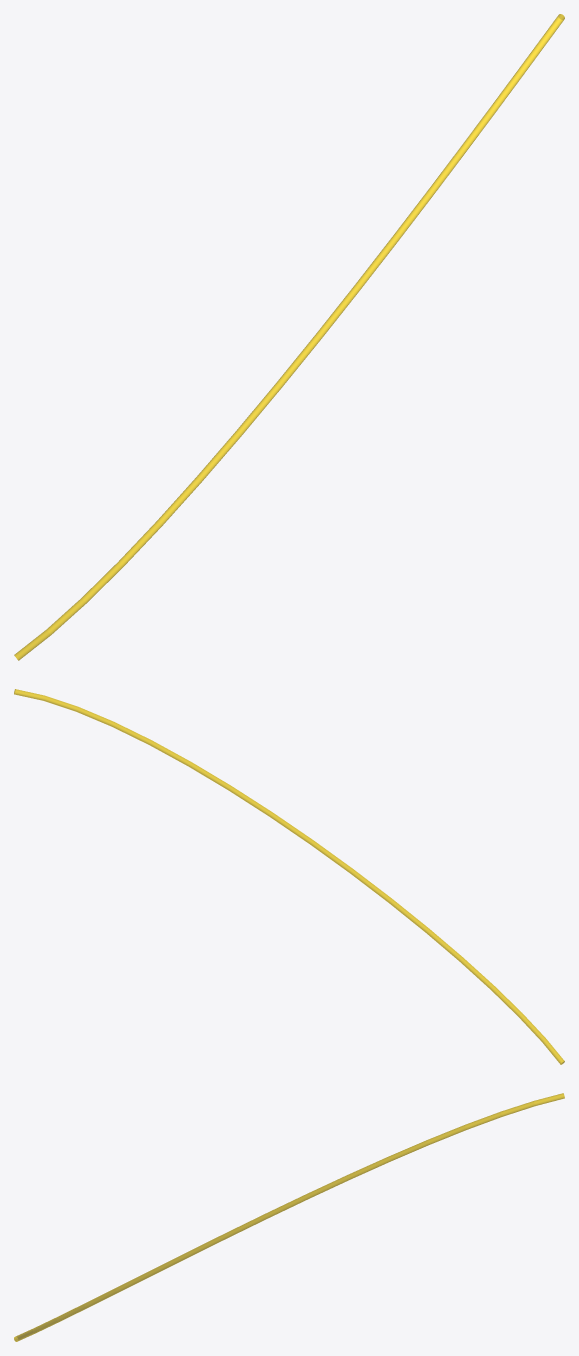
Rendered from Event_84804159_track_2.fbx.
3 views of the same model, one above another, from view 1: azimuth 30°, elevation 25°; view 2: azimuth 150°, elevation 25°; view 3: azimuth 330°, elevation 25° (orthographic). The views are drawn at different scales.
Visible parts, largest first — view 1: Model; view 2: Model; view 3: Model.
Boxes of the visible parts, <box> form: Model: <box>14,14,564,660</box>; Model: <box>14,689,564,1064</box>; Model: <box>14,1093,564,1341</box>.
Bounding box in the file's own units: 3.98 × 2.48 × 1.12.
